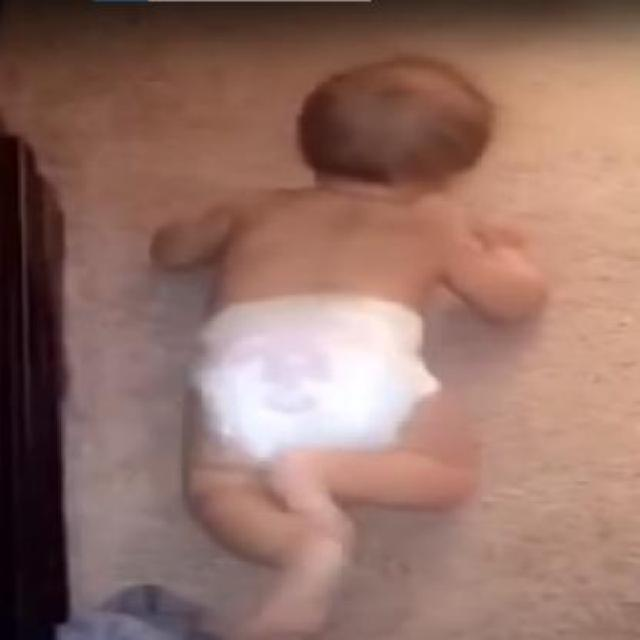non-dog: (143, 51, 550, 640)
